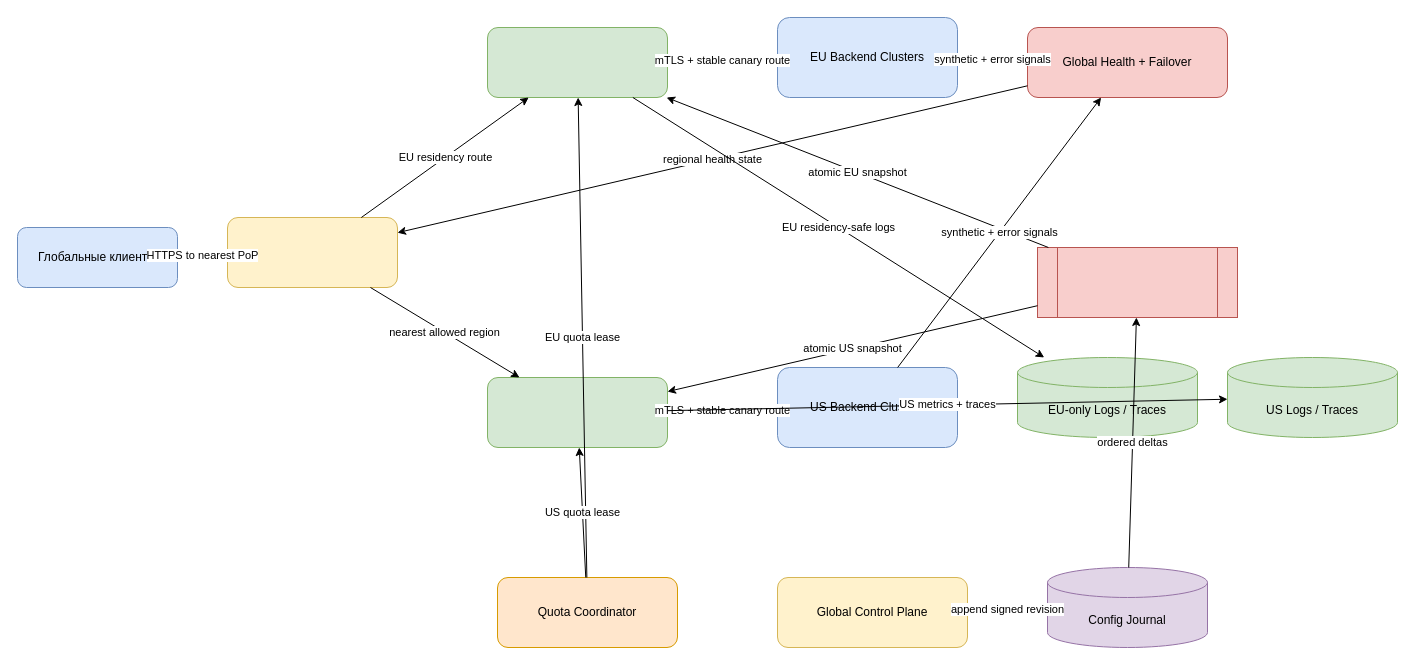
Image size: 1415x665. Some labels were removed from this diagram. The box of each missing label's shape, as (x1, y1, x2, y2) in pixels:
Anycast Edge + WAF: (226, 216, 398, 288)
EU Gateway Pool: (486, 26, 668, 98)
US Gateway Pool: (486, 376, 668, 448)
Региональные config streams: (1036, 246, 1238, 318)
